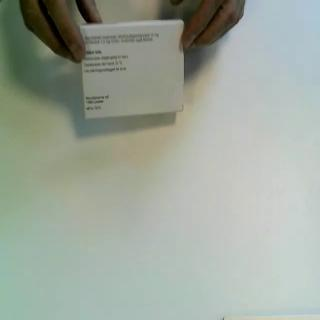dolcontin10mg: (79, 18, 187, 122)
